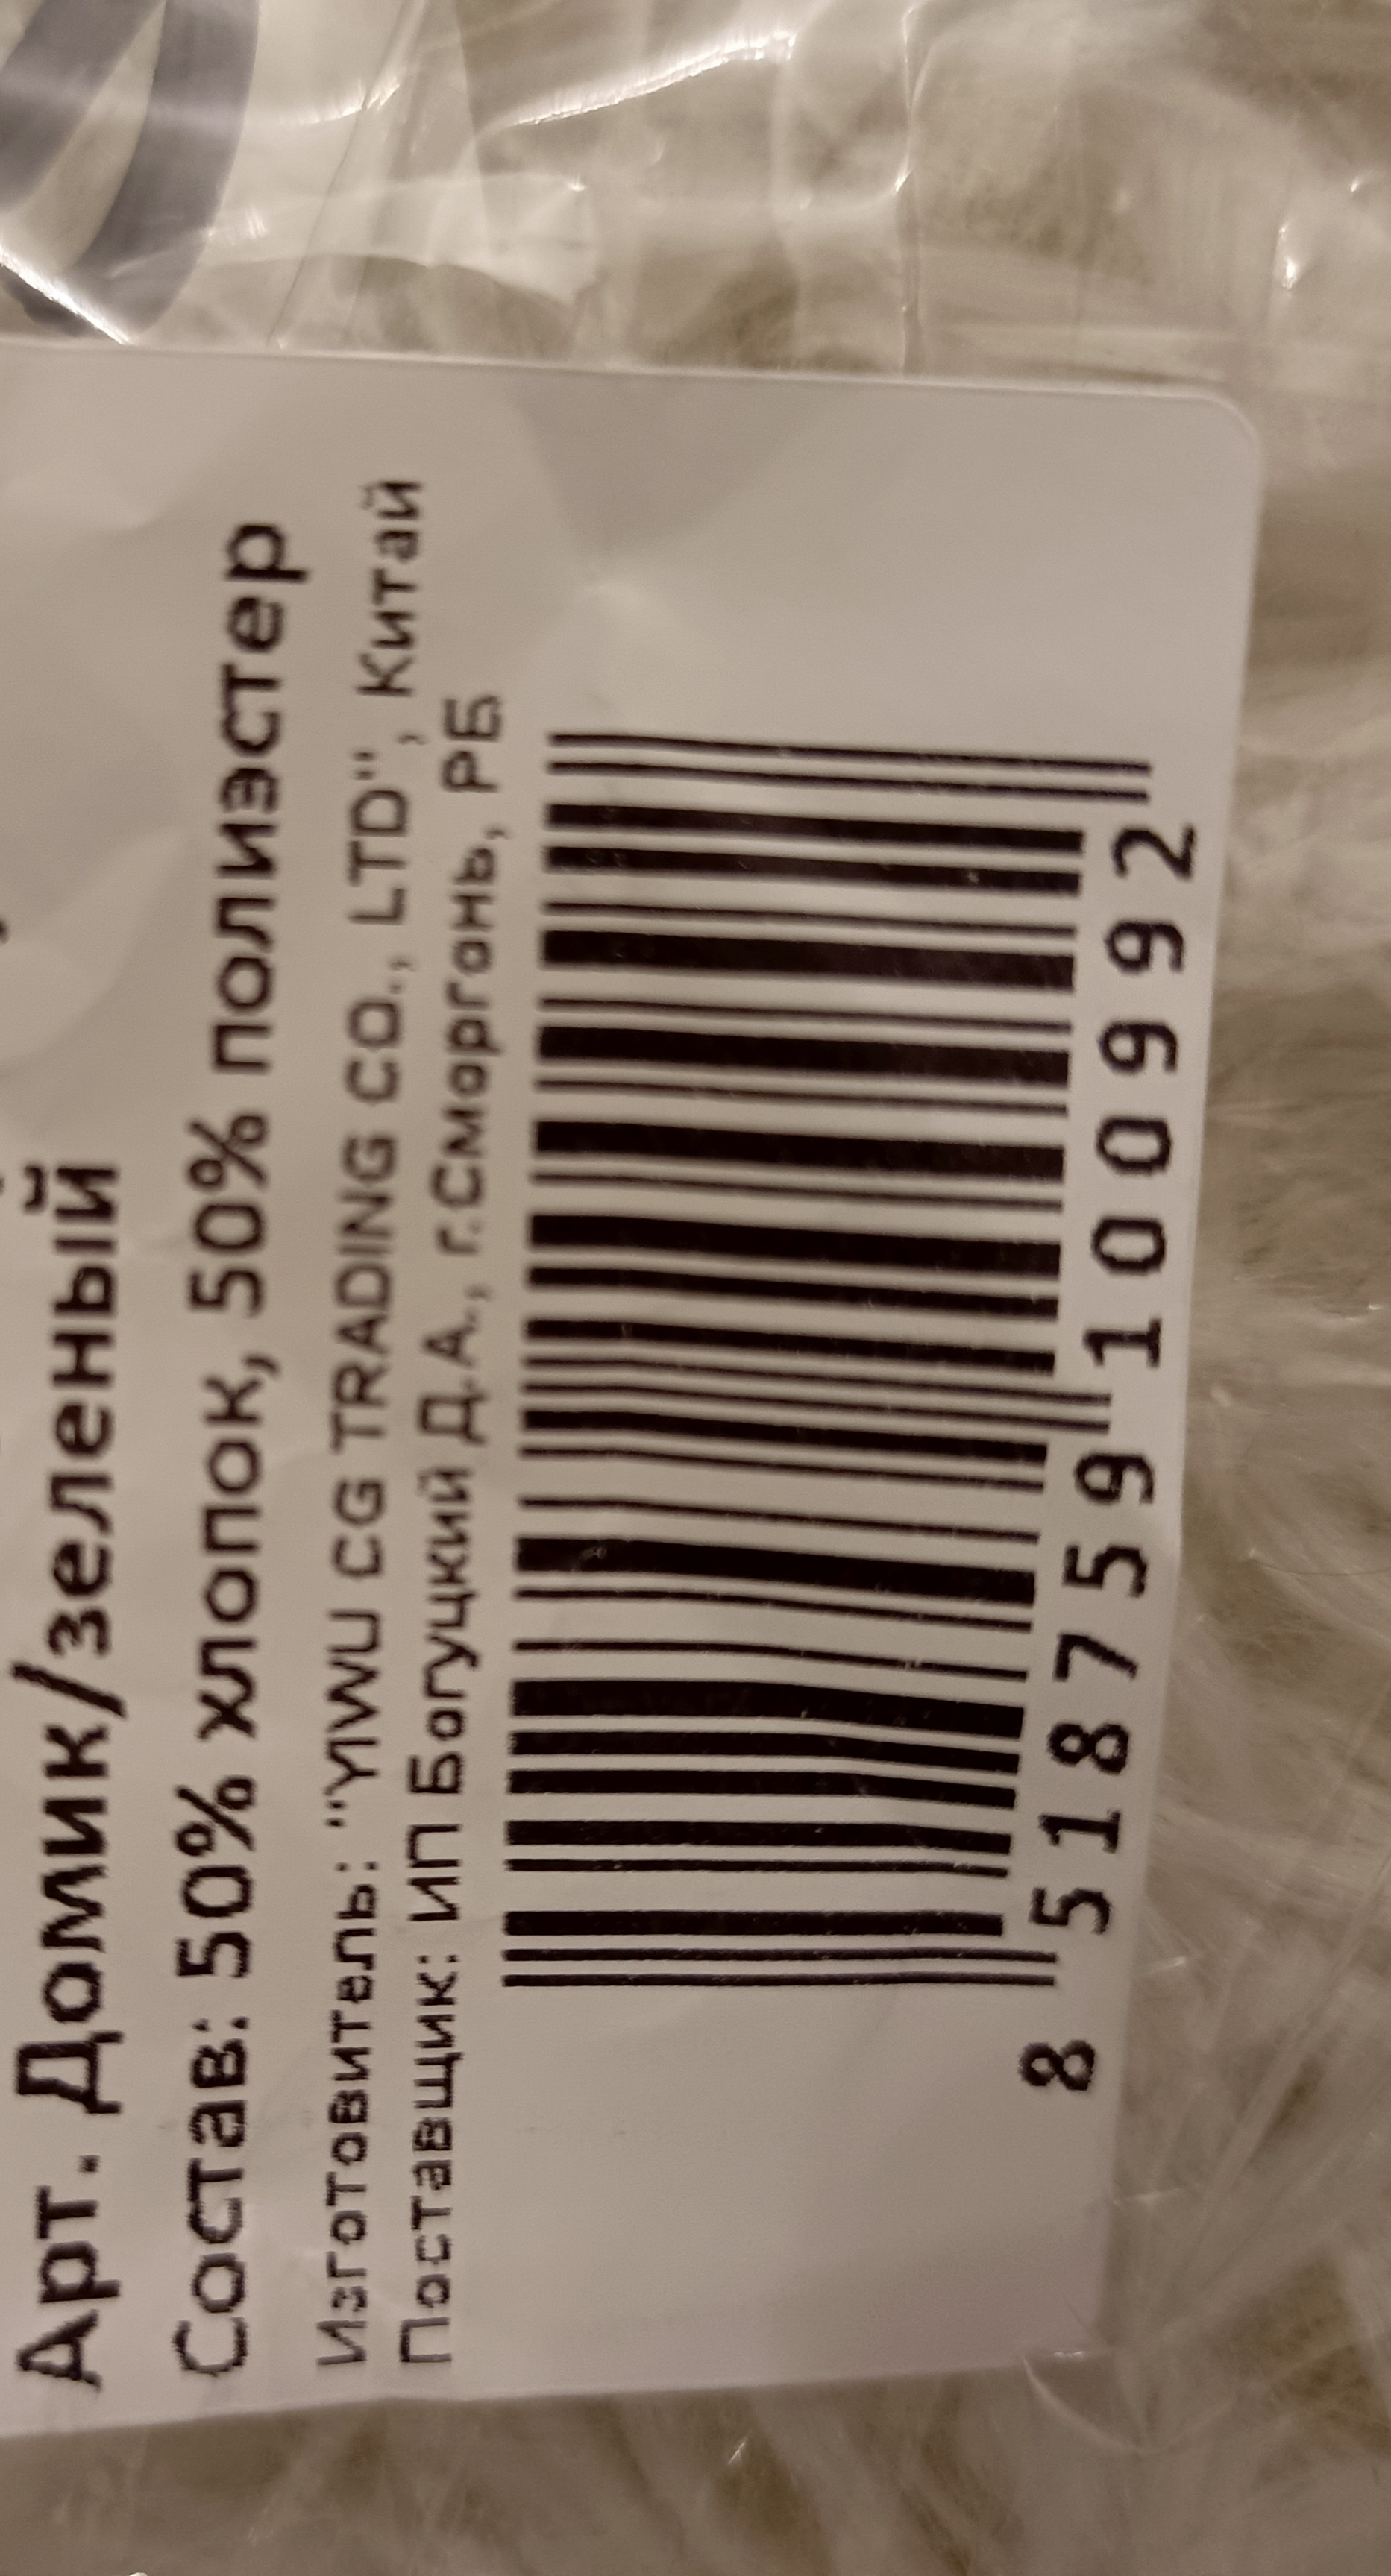1d: (497, 724, 1091, 1991)
